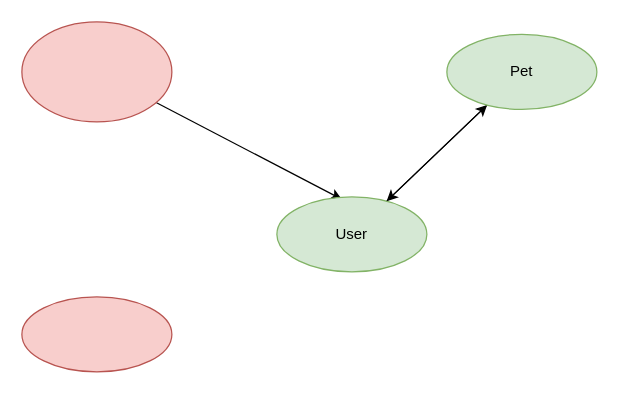
Image size: 619x394. Some labels were removed from this diagram. The centre of each missing label's shape, as x and y in pixels:
"Root Mutation" goes at [96,334].
"Root Query" goes at [96,71].
